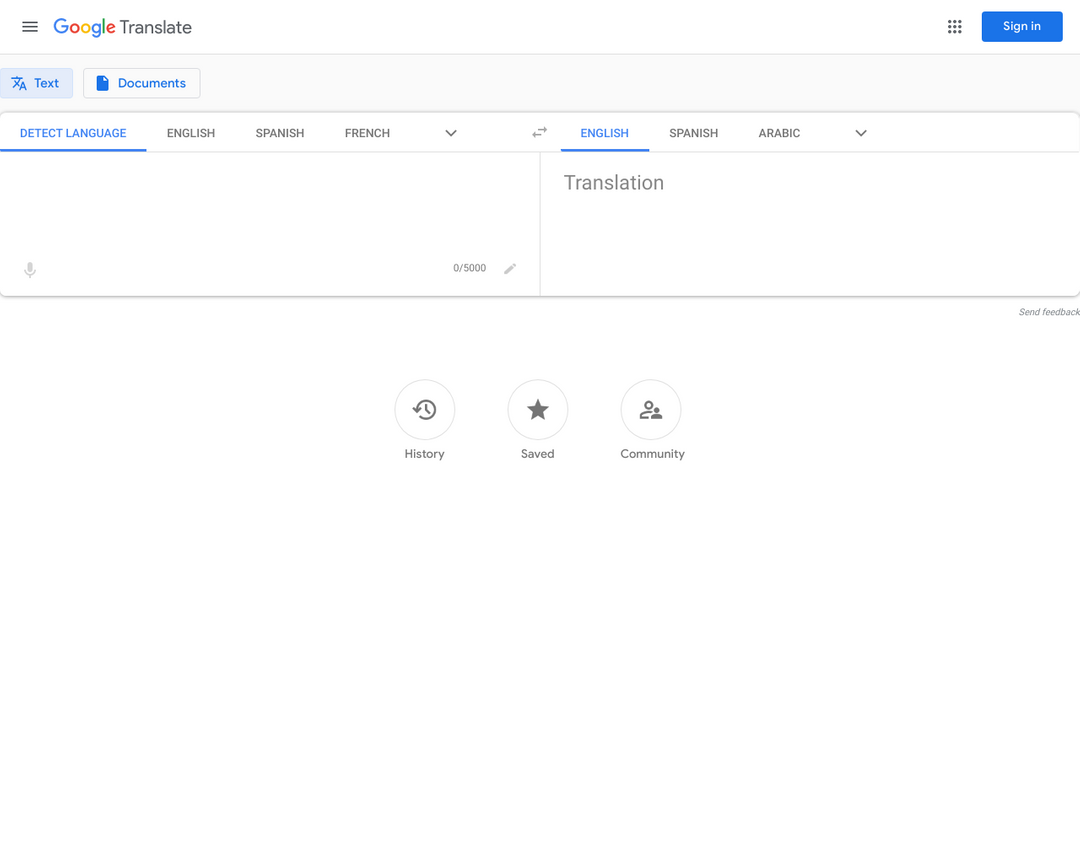Google: (50, 13, 119, 40)
